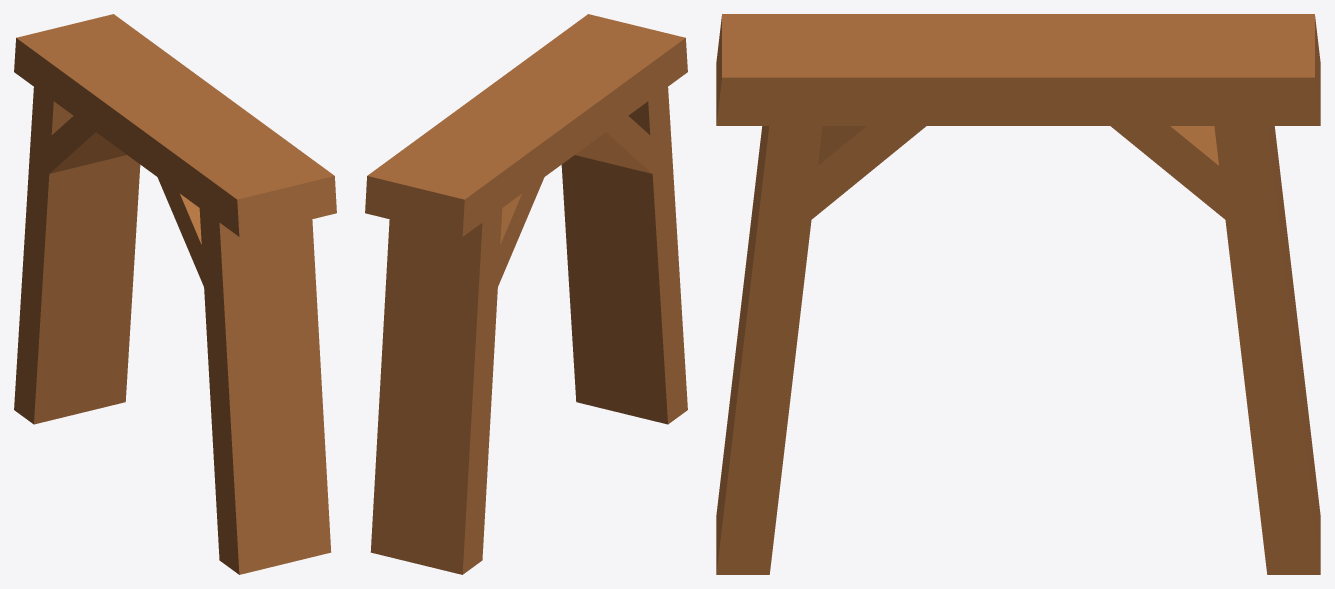
File: puerta.fbx
The picture shows the model from 3 angles, left to right: view 1: azimuth 30°, elevation 25°; view 2: azimuth 150°, elevation 25°; view 3: azimuth 270°, elevation 25°; orthographic projection. The views are drawn at different scales.
Visible parts, largest first — view 1: group_1; view 2: group_1; view 3: group_1.
Part boxes in pixels (box(x1,y1,x2,y2)): group_1: box(14, 14, 336, 574); group_1: box(365, 14, 687, 574); group_1: box(716, 14, 1320, 574).
Size of the model in its own units: 85 by 311 by 340.
